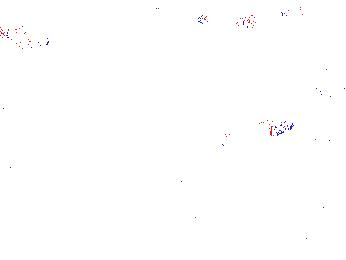glassfish: (215, 113, 296, 156)
redtail glassfish: (1, 22, 53, 51), (194, 10, 252, 32), (277, 2, 343, 21)
